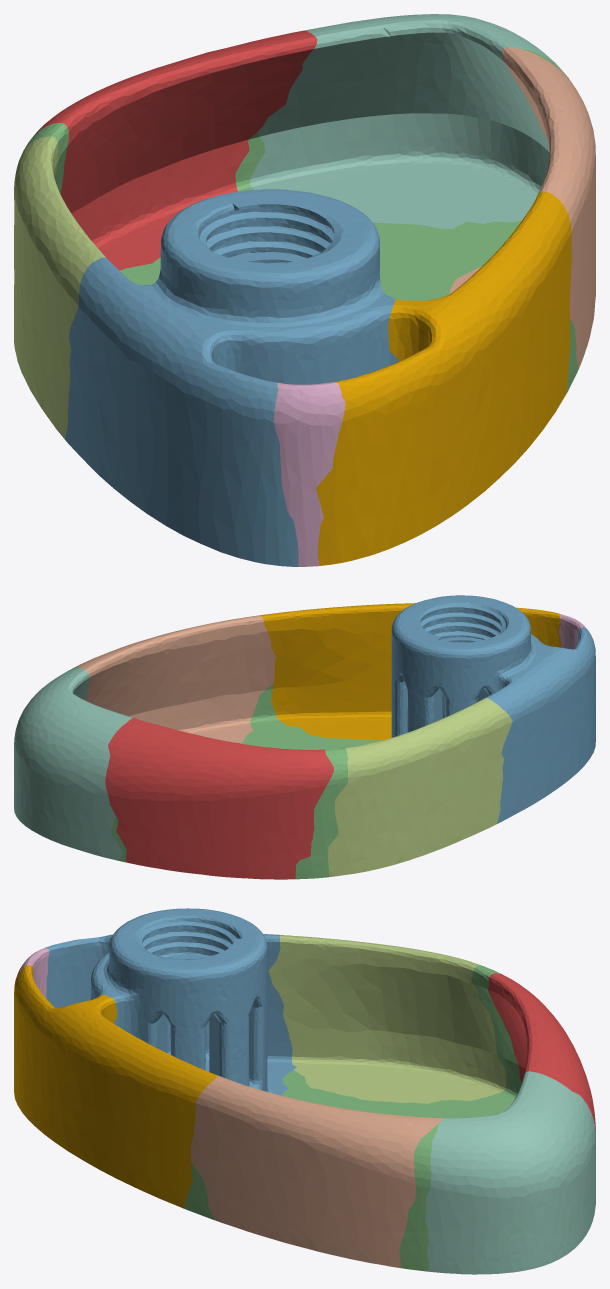
The model's file is mode_7_8pcs.glb.
The picture shows the model from 3 angles, top to bottom: view 1: azimuth 30°, elevation 25°; view 2: azimuth 150°, elevation 25°; view 3: azimuth 270°, elevation 25°; orthographic projection. The views are drawn at different scales.
Visible parts, largest first — view 1: piece_2.obj, piece_0.obj, piece_4.obj, piece_1.obj, piece_5.obj, piece_7.obj, piece_3.obj, piece_6.obj; view 2: piece_2.obj, piece_1.obj, piece_5.obj, piece_7.obj, piece_0.obj, piece_4.obj, piece_3.obj, piece_6.obj; view 3: piece_7.obj, piece_5.obj, piece_2.obj, piece_0.obj, piece_4.obj, piece_3.obj, piece_1.obj, piece_6.obj.
Part boxes in pixels (<box>): piece_2.obj: <box>65,189,398,566</box>; piece_0.obj: <box>316,191,571,565</box>; piece_4.obj: <box>250,14,562,228</box>; piece_1.obj: <box>31,30,317,270</box>; piece_5.obj: <box>14,136,105,439</box>; piece_7.obj: <box>450,47,595,368</box>; piece_3.obj: <box>23,49,578,392</box>; piece_6.obj: <box>273,382,345,566</box>; piece_2.obj: <box>391,595,595,823</box>; piece_1.obj: <box>105,718,333,879</box>; piece_5.obj: <box>328,698,512,876</box>; piece_7.obj: <box>76,615,275,743</box>; piece_0.obj: <box>259,603,561,740</box>; piece_4.obj: <box>14,668,132,860</box>; piece_3.obj: <box>71,666,382,879</box>; piece_6.obj: <box>558,614,587,649</box>; piece_7.obj: <box>191,1076,443,1268</box>; piece_5.obj: <box>268,935,506,1103</box>; piece_2.obj: <box>45,908,296,1095</box>; piece_0.obj: <box>14,965,218,1208</box>; piece_4.obj: <box>425,1071,595,1274</box>; piece_3.obj: <box>184,966,521,1271</box>; piece_1.obj: <box>488,973,595,1130</box>; piece_6.obj: <box>16,948,49,998</box>.
Bounding box in the file's own units: 0.8951 × 0.3162 × 1.
